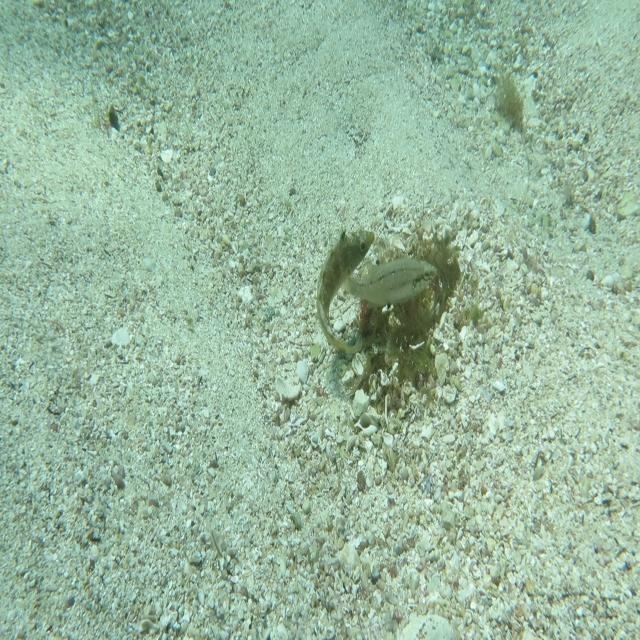BEND: (310, 221, 376, 357)
female: (340, 253, 439, 310)
nest: (327, 193, 465, 409)
